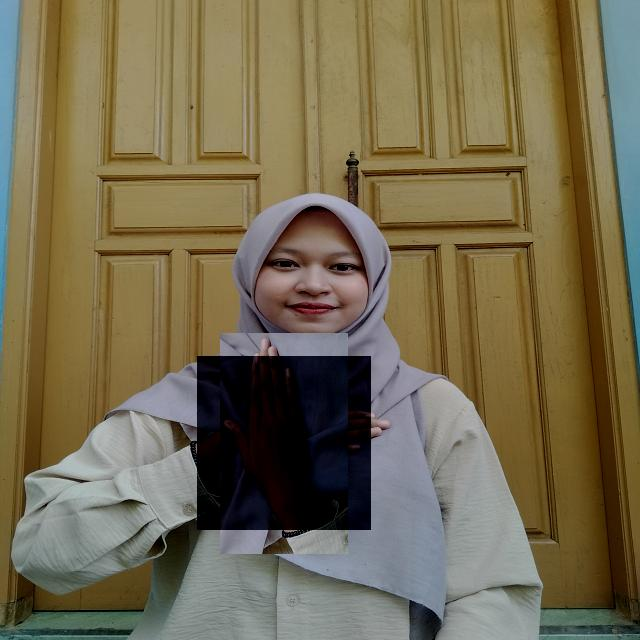tidur: (197, 356, 371, 530)
